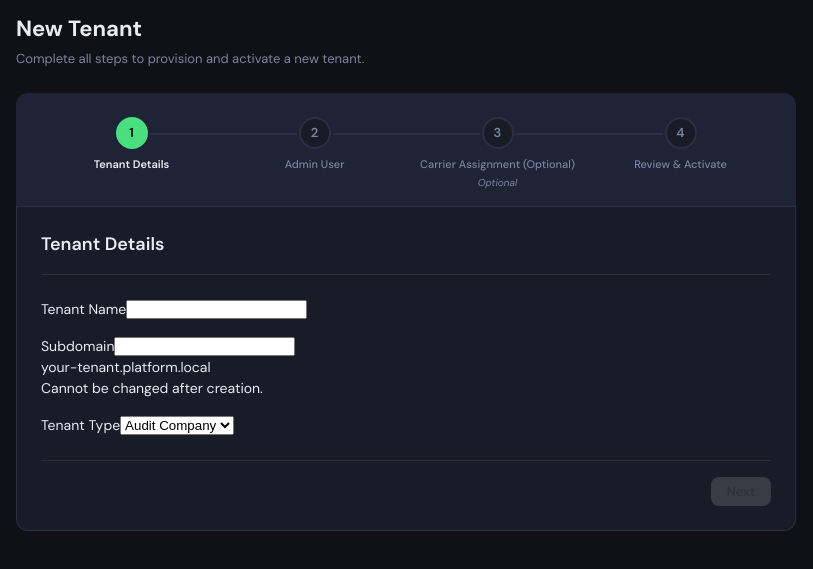
Test case: TenantCreationWizard › wizard back navigation preserves step data
Step 1. Type "BackTest Inc" into the field labelled "Tenant Name" → (217, 309), box [126, 300, 307, 319]
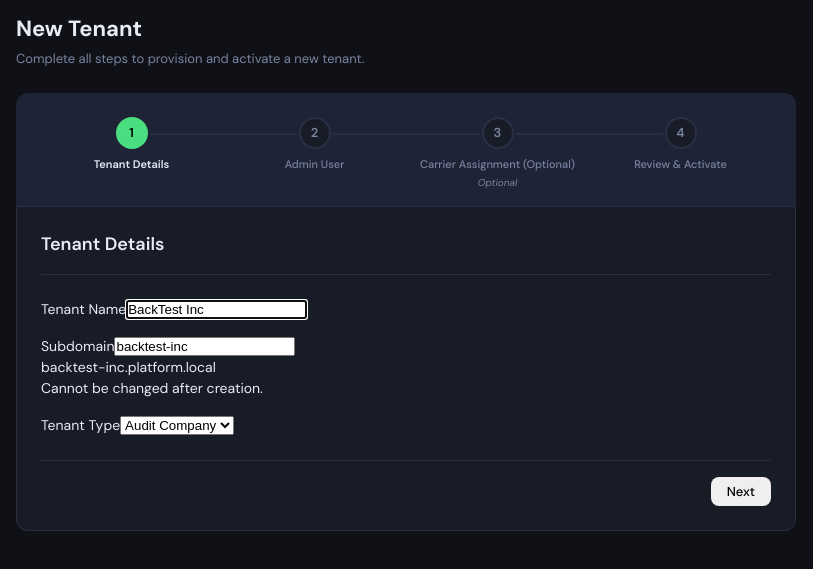
Step 2. Replace the text in the field labelled "Subdomain" with "backtest" → (205, 346), box [114, 337, 296, 356]
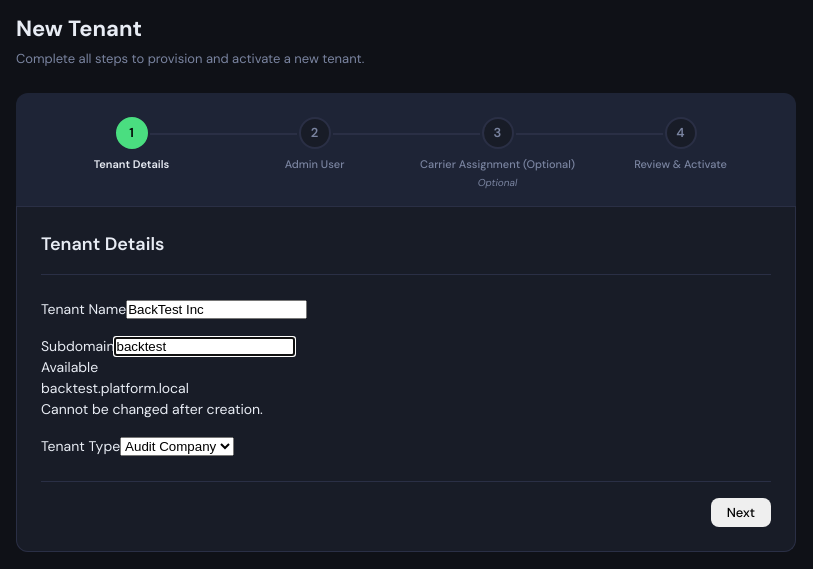
Now the text "Available" is shown, box [41, 358, 98, 376]
Step 3. Click the button "Next" → (741, 512), box [711, 498, 771, 527]
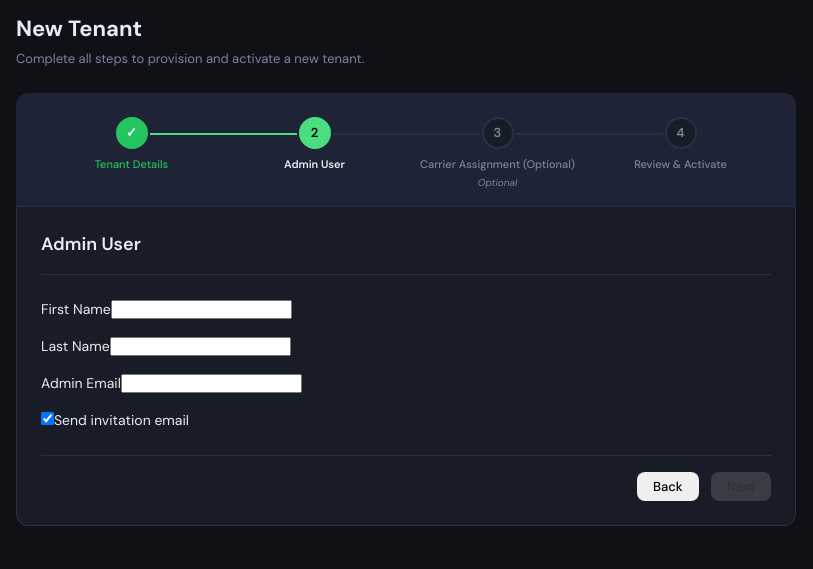
Now the field labelled "Admin Email" is shown, box [121, 374, 302, 393]
# Step 2 — go back
Step 4. Click the button "Back" → (668, 486), box [637, 472, 699, 501]
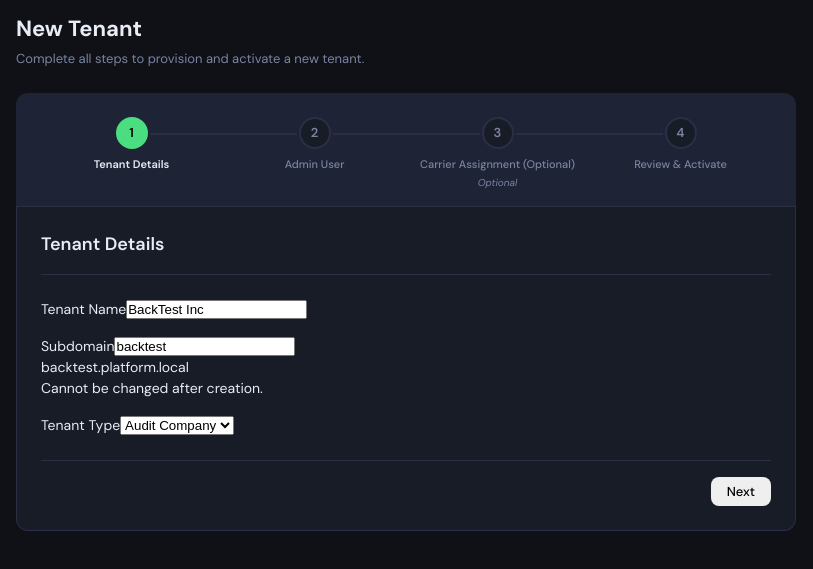
Now the field labelled "Subdomain" holds "backtest", box [114, 337, 296, 356]
